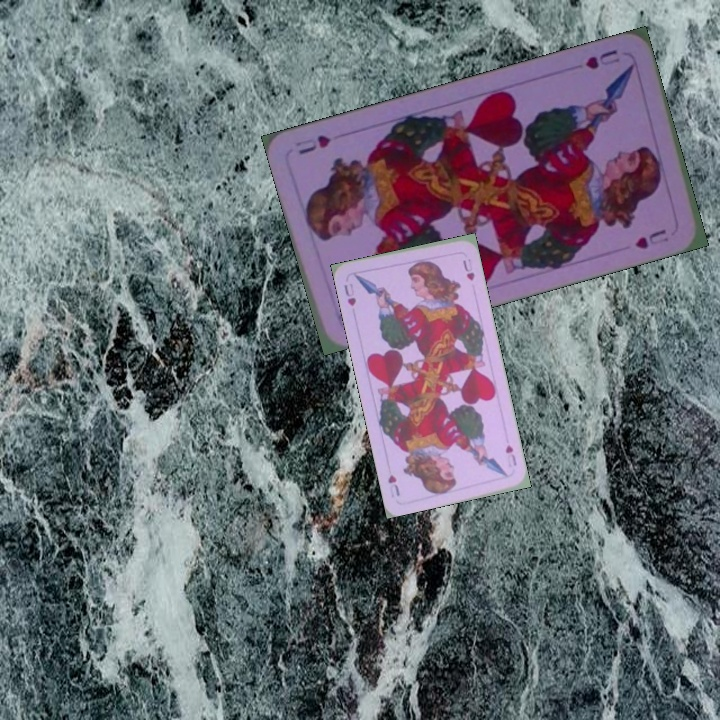HU: (581, 45, 623, 72), (340, 279, 358, 309), (501, 441, 519, 470)
